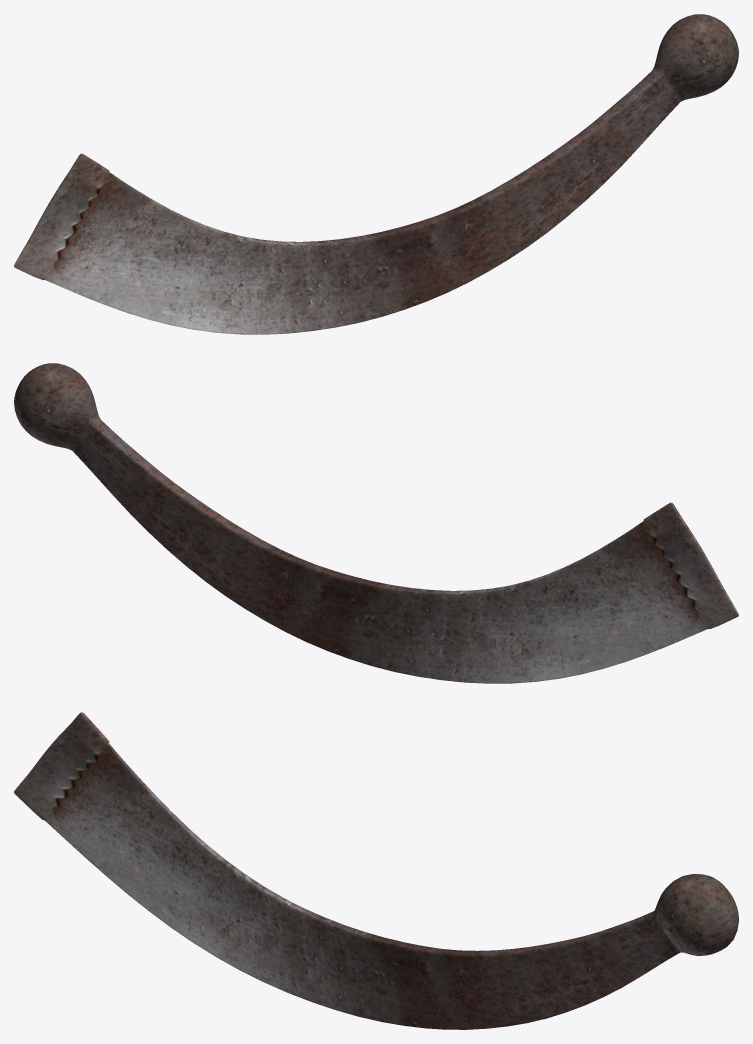
The model's file is valari.glb.
3 renders of one model, top to bottom at view 1: azimuth 30°, elevation 25°; view 2: azimuth 150°, elevation 25°; view 3: azimuth 330°, elevation 25°, orthographic.
Parts seen in each view (by area): view 1: valari; view 2: valari; view 3: valari.
Part boxes in pixels (box(x1,y1,x2,y2)): valari: box(14, 14, 738, 334); valari: box(14, 363, 738, 683); valari: box(14, 712, 738, 1029).
Size of the model in its own units: 1.94 by 0.6084 by 0.1583.
1 material, 1 textured.
